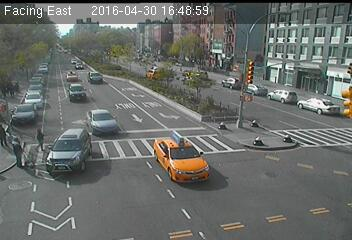neg: (104, 168, 135, 210), (179, 143, 209, 182), (291, 22, 320, 61), (168, 83, 195, 119), (87, 111, 114, 146), (299, 156, 324, 189), (164, 27, 188, 60), (69, 46, 93, 78), (293, 93, 315, 122), (240, 62, 257, 85), (250, 132, 263, 149)
pos: (5, 135, 28, 166), (34, 126, 50, 147)
